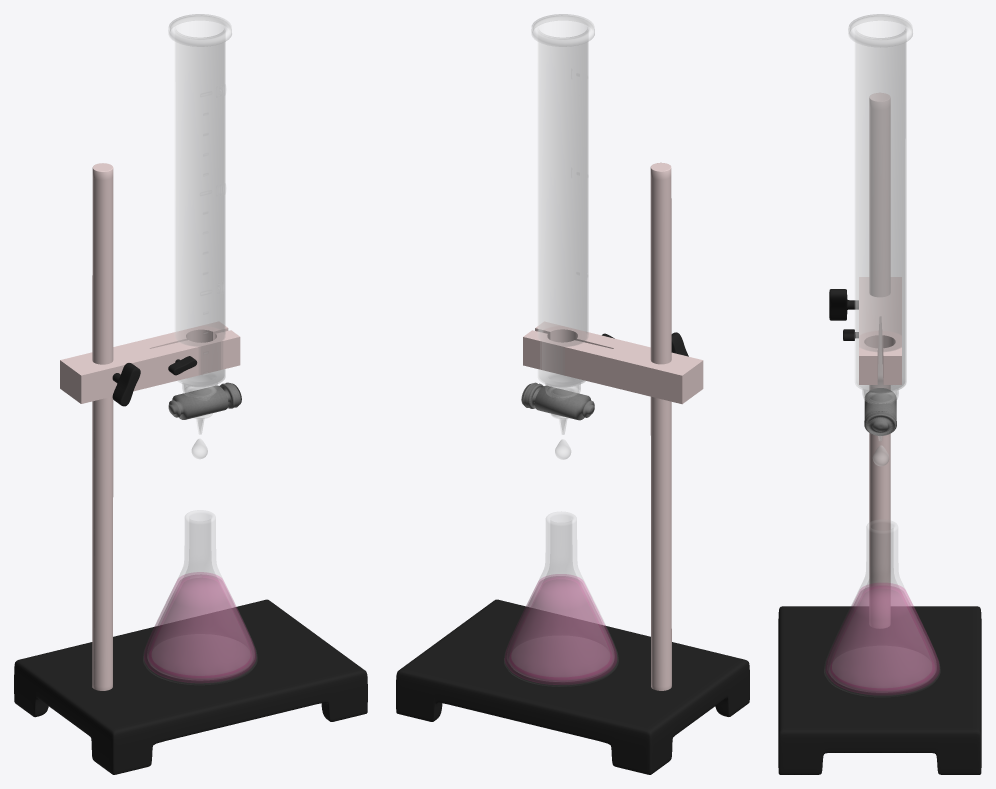
The model's file is titration_final.glb.
The picture shows the model from 3 angles, left to right: view 1: azimuth 30°, elevation 25°; view 2: azimuth 150°, elevation 25°; view 3: azimuth 270°, elevation 25°; orthographic projection.
Parts seen in each view (by area): view 1: polySurface2_Black_0, Circle_0.001, Burette_Flask_Glass, polySurface1_Chrom_0, Liquid_Pink, Liquid_Clear, pCube4_Chrom_0, Cylinder_1, polySurface5_Black_0; view 2: polySurface2_Black_0, Circle_0.001, Burette_Flask_Glass, polySurface1_Chrom_0, Liquid_Pink, pCube4_Chrom_0, Liquid_Clear, Cylinder_1; view 3: polySurface2_Black_0, Circle_0.001, Burette_Flask_Glass, Liquid_Pink, polySurface1_Chrom_0, Liquid_Clear, pCube4_Chrom_0, Cylinder_1, polySurface5_Black_0.
Part boxes in pixels (x1=…): polySurface2_Black_0: x1=14, y1=599, x2=367, y2=774; Circle_0.001: x1=168, y1=14, x2=231, y2=434; Burette_Flask_Glass: x1=143, y1=510, x2=256, y2=684; polySurface1_Chrom_0: x1=92, y1=163, x2=113, y2=690; Liquid_Pink: x1=144, y1=572, x2=255, y2=682; Liquid_Clear: x1=147, y1=575, x2=254, y2=680; pCube4_Chrom_0: x1=60, y1=321, x2=240, y2=403; Cylinder_1: x1=168, y1=382, x2=241, y2=419; polySurface5_Black_0: x1=112, y1=363, x2=140, y2=406; polySurface2_Black_0: x1=396, y1=599, x2=749, y2=774; Circle_0.001: x1=531, y1=14, x2=594, y2=434; Burette_Flask_Glass: x1=504, y1=512, x2=618, y2=686; polySurface1_Chrom_0: x1=650, y1=162, x2=671, y2=690; Liquid_Pink: x1=505, y1=574, x2=616, y2=684; pCube4_Chrom_0: x1=523, y1=321, x2=703, y2=404; Liquid_Clear: x1=507, y1=576, x2=614, y2=681; Cylinder_1: x1=521, y1=382, x2=594, y2=420; polySurface2_Black_0: x1=778, y1=606, x2=981, y2=774; Circle_0.001: x1=848, y1=14, x2=912, y2=440; Burette_Flask_Glass: x1=824, y1=520, x2=939, y2=696; Liquid_Pink: x1=826, y1=583, x2=939, y2=694; polySurface1_Chrom_0: x1=869, y1=93, x2=890, y2=628; Liquid_Clear: x1=827, y1=586, x2=936, y2=692; pCube4_Chrom_0: x1=859, y1=277, x2=901, y2=384; Cylinder_1: x1=864, y1=388, x2=896, y2=435; polySurface5_Black_0: x1=829, y1=289, x2=858, y2=320.
Size of the model in its own units: 2.79 by 7.08 by 1.89.
Materials: 9 (2 with a texture image).
